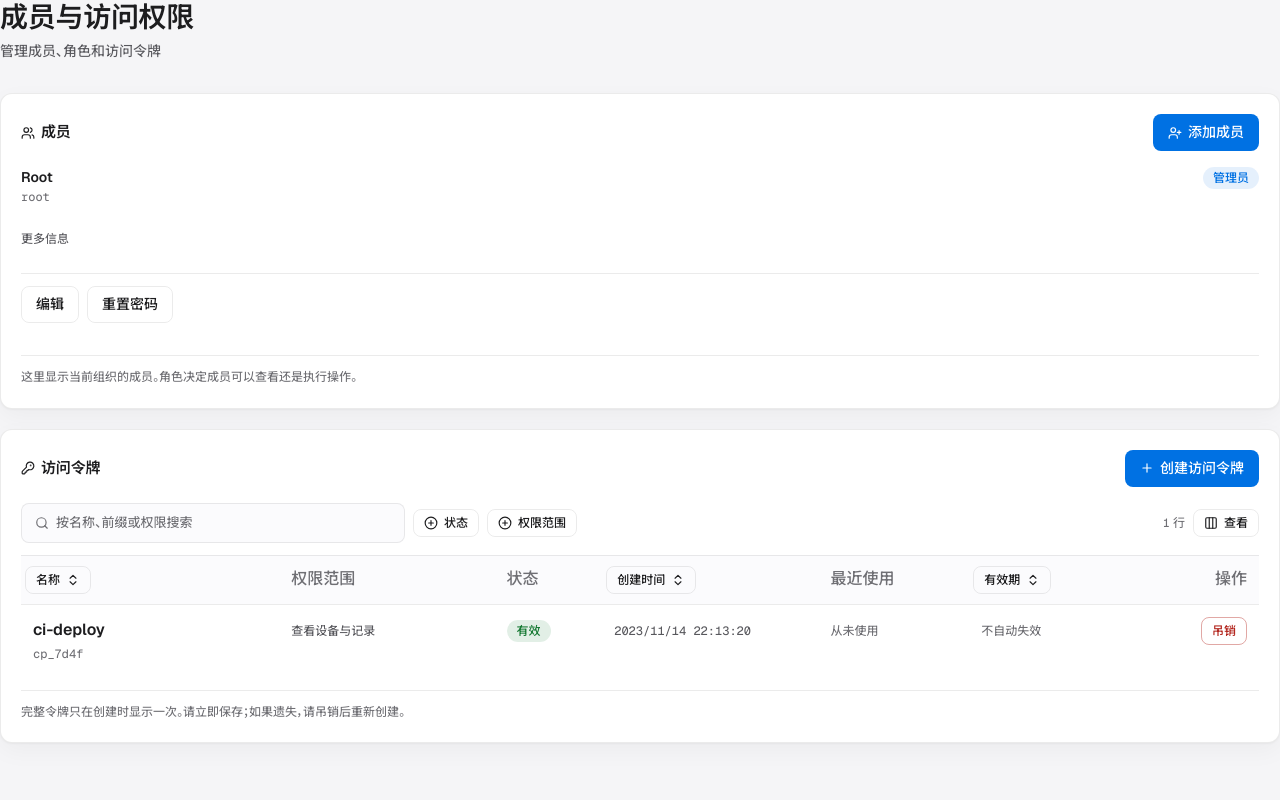
Test: TestScopeDefaultsLeastPrivilege › scope 默认只勾 read；write/admin/edge 不预选，且危险范围有说明
This screenshot has width=1280, height=800.
Click the button "创建访问令牌": point(1192, 468) [1125,450,1259,486]
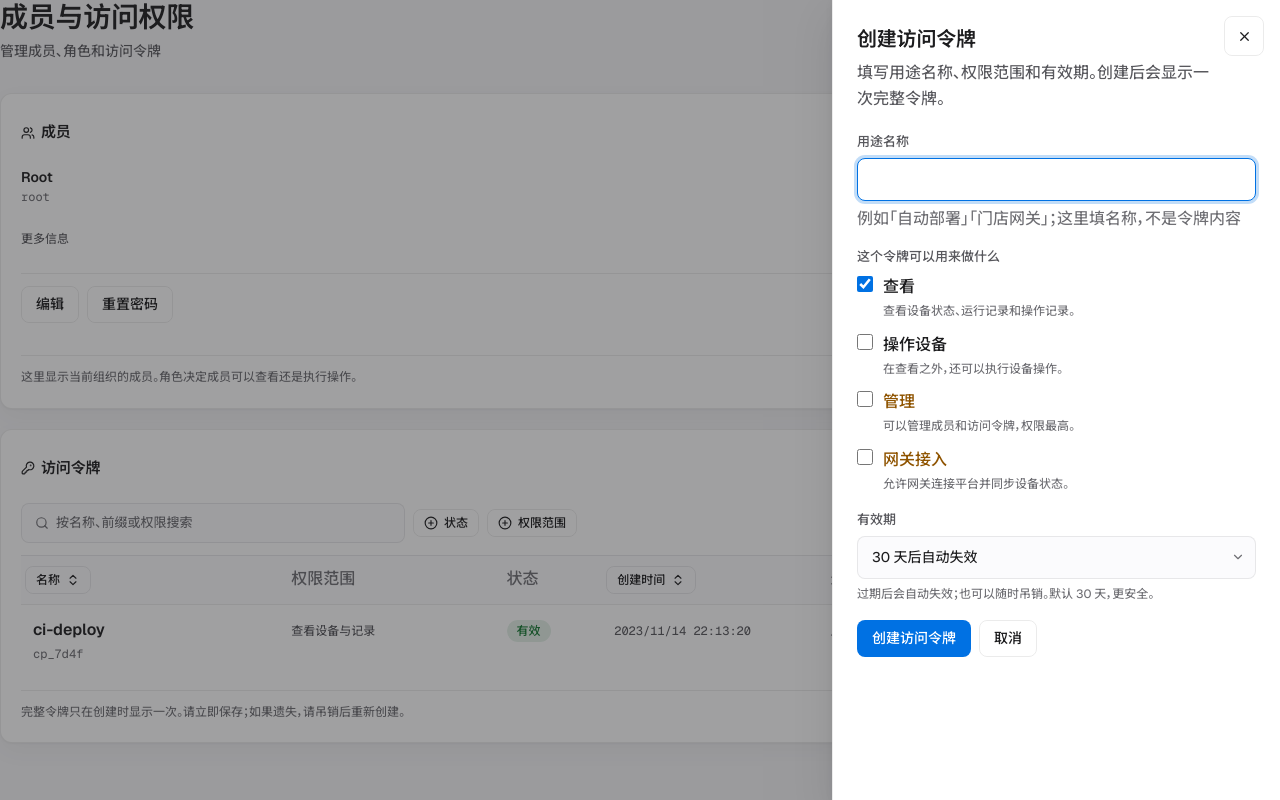
Expected: the checkbox labelled "查看" is checked, [857,276,873,292]
Expected: the checkbox labelled "操作设备" is not checked, [857,334,873,350]
Expected: the checkbox labelled "管理" is not checked, [857,391,873,407]
